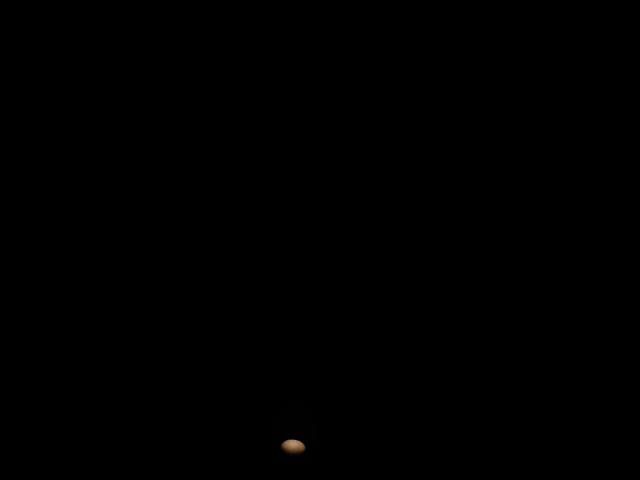egg: (279, 438, 306, 458)
